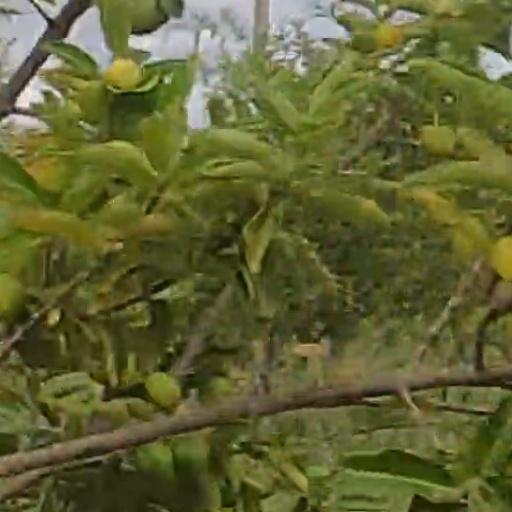acerola_verde: (421, 124, 456, 152), (108, 58, 140, 87), (492, 234, 512, 277)
